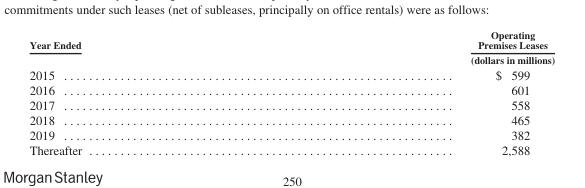table: (28, 28, 554, 157)
table column: (275, 28, 554, 157), (28, 28, 275, 157)
table column header: (28, 28, 554, 66)
table row: (28, 28, 554, 66), (28, 96, 554, 112), (28, 66, 554, 81), (28, 81, 554, 96), (28, 112, 554, 127), (28, 127, 554, 142), (28, 142, 554, 157)
